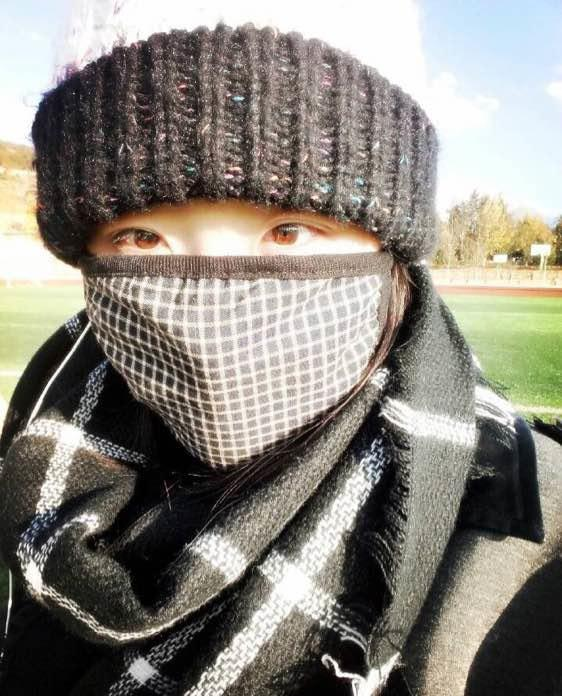OK: (85, 174, 374, 463)
